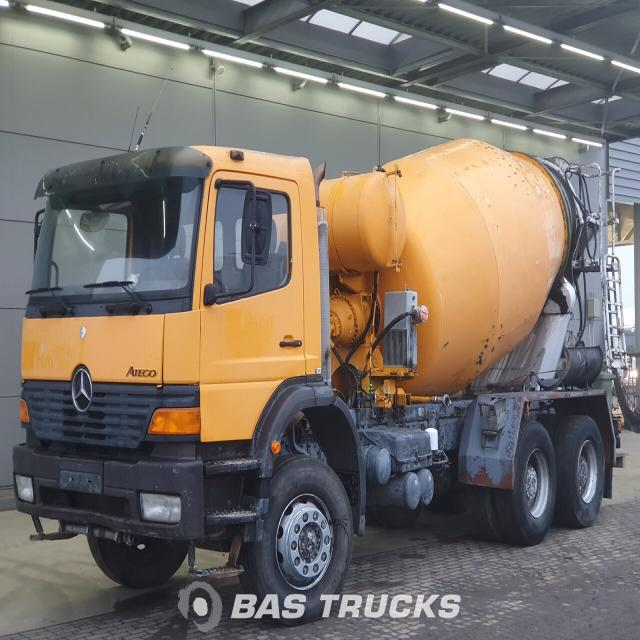Mixer Truck: (13, 138, 624, 627)
